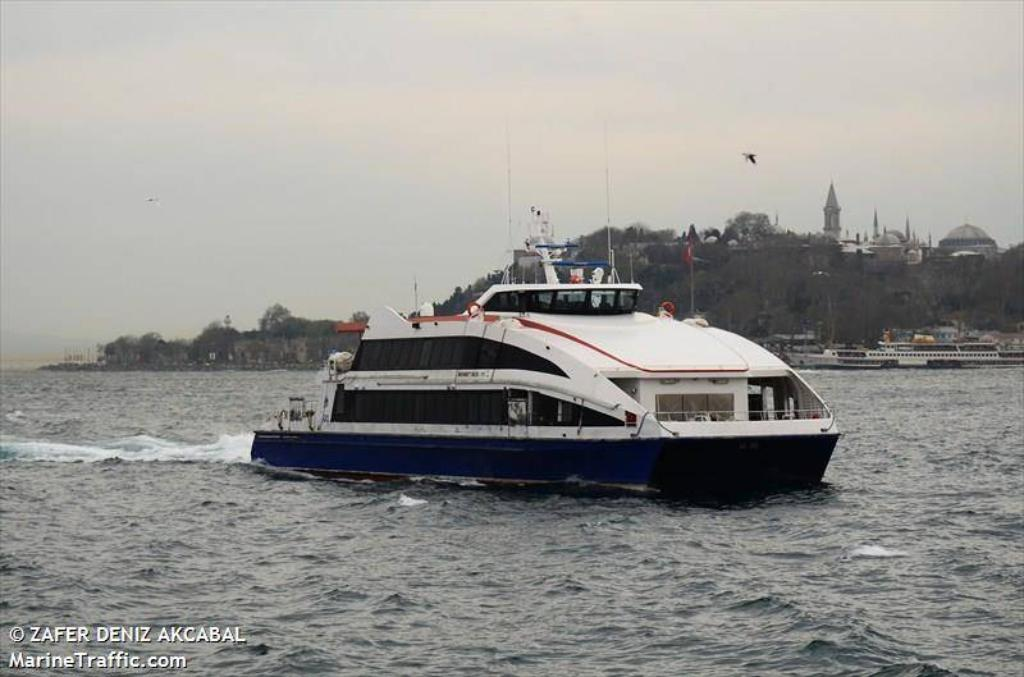PassengerShip: (245, 197, 849, 507)
